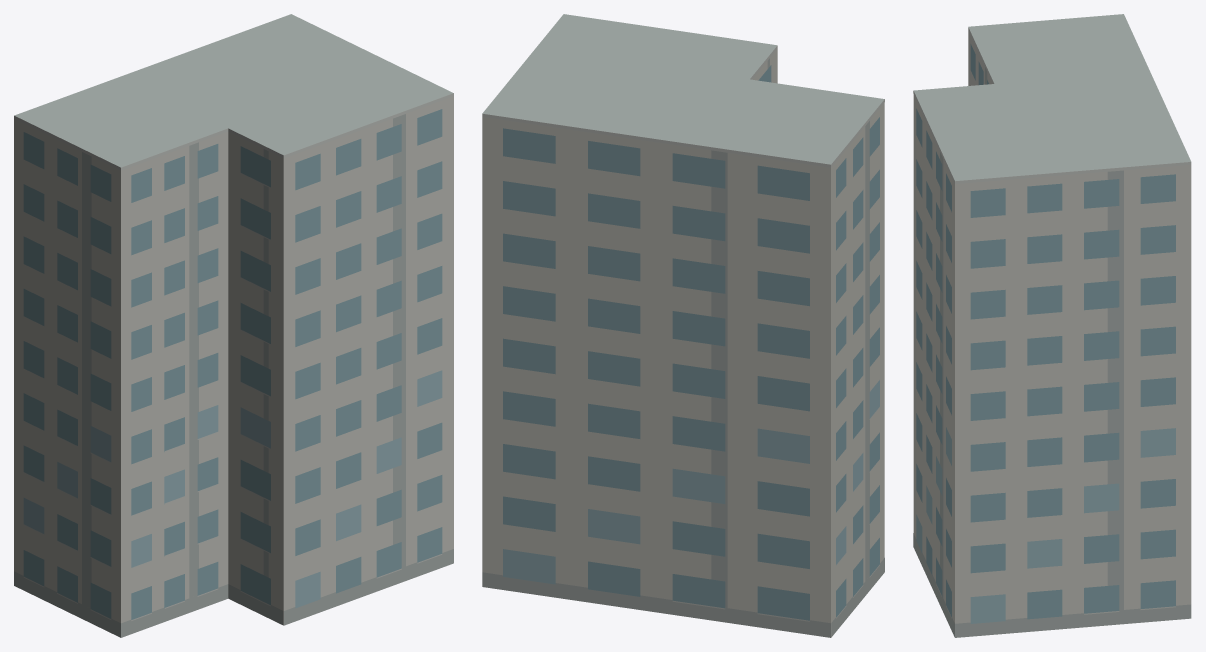
File: residential-c12ab8fc-168d-4bbf-b986-7f57efa487e2.glb
3 renders of one model, left to right at view 1: azimuth 30°, elevation 25°; view 2: azimuth 150°, elevation 25°; view 3: azimuth 270°, elevation 25°, orthographic. The views are drawn at different scales.
Parts seen in each view (by area): view 1: residential-c12ab8fc-168d-4bbf-b986-7f57efa487e2.tmp; view 2: residential-c12ab8fc-168d-4bbf-b986-7f57efa487e2.tmp; view 3: residential-c12ab8fc-168d-4bbf-b986-7f57efa487e2.tmp.
Part boxes in pixels (x1,y1,x2,y2): residential-c12ab8fc-168d-4bbf-b986-7f57efa487e2.tmp: (14, 14, 453, 637); residential-c12ab8fc-168d-4bbf-b986-7f57efa487e2.tmp: (482, 14, 884, 637); residential-c12ab8fc-168d-4bbf-b986-7f57efa487e2.tmp: (913, 14, 1191, 637).
Bounding box in the file's own units: 28.27 × 36 × 19.86.
